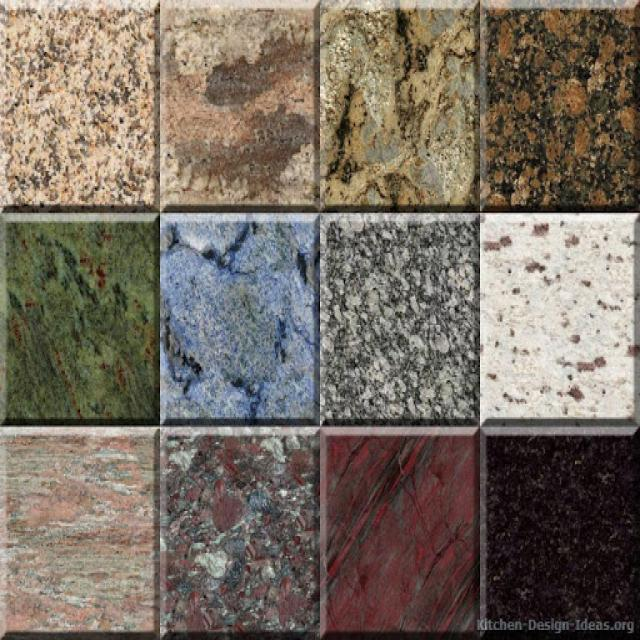Igneous: (324, 1, 481, 212), (324, 429, 478, 640), (1, 430, 155, 640), (1, 2, 159, 206), (484, 216, 640, 421), (162, 216, 318, 419), (2, 218, 158, 420), (161, 2, 315, 204), (325, 216, 477, 419), (488, 6, 636, 212), (166, 436, 320, 632)
